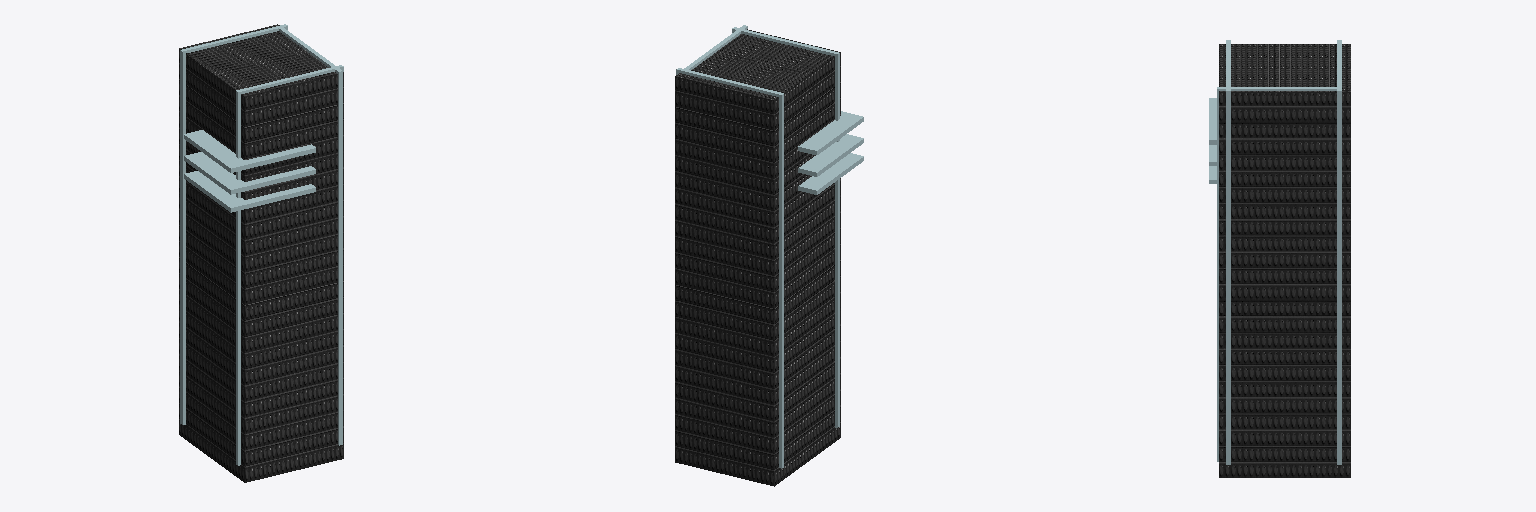
The picture shows the model from 3 angles: view 1: azimuth 30°, elevation 25°; view 2: azimuth 150°, elevation 25°; view 3: azimuth 270°, elevation 25°; orthographic projection.
Visible parts, largest first — view 1: Box001, Box006, Box009, Box007, Box005, Box004, Box003; view 2: Box001, Box006, Box007, Box005, Box004, Box003; view 3: Box001, Box006, Box007, Box009.
Part boxes in pixels (left/top/right/bottom): Box001: left=179, top=24, right=343, bottom=482; Box006: left=180, top=24, right=287, bottom=424; Box009: left=279, top=27, right=342, bottom=445; Box007: left=236, top=65, right=343, bottom=465; Box005: left=184, top=130, right=315, bottom=172; Box004: left=184, top=152, right=315, bottom=194; Box003: left=184, top=171, right=315, bottom=212; Box001: left=675, top=29, right=840, bottom=486; Box006: left=676, top=68, right=783, bottom=468; Box007: left=732, top=27, right=839, bottom=427; Box005: left=798, top=111, right=863, bottom=154; Box004: left=798, top=134, right=863, bottom=176; Box003: left=798, top=153, right=863, bottom=194; Box001: left=1219, top=44, right=1350, bottom=477; Box006: left=1337, top=40, right=1341, bottom=464; Box007: left=1226, top=40, right=1230, bottom=464; Box009: left=1217, top=87, right=1336, bottom=461.
Bounding box in the file's own units: 52.33 × 160 × 53.05.
Materials: 2 (2 with a texture image).